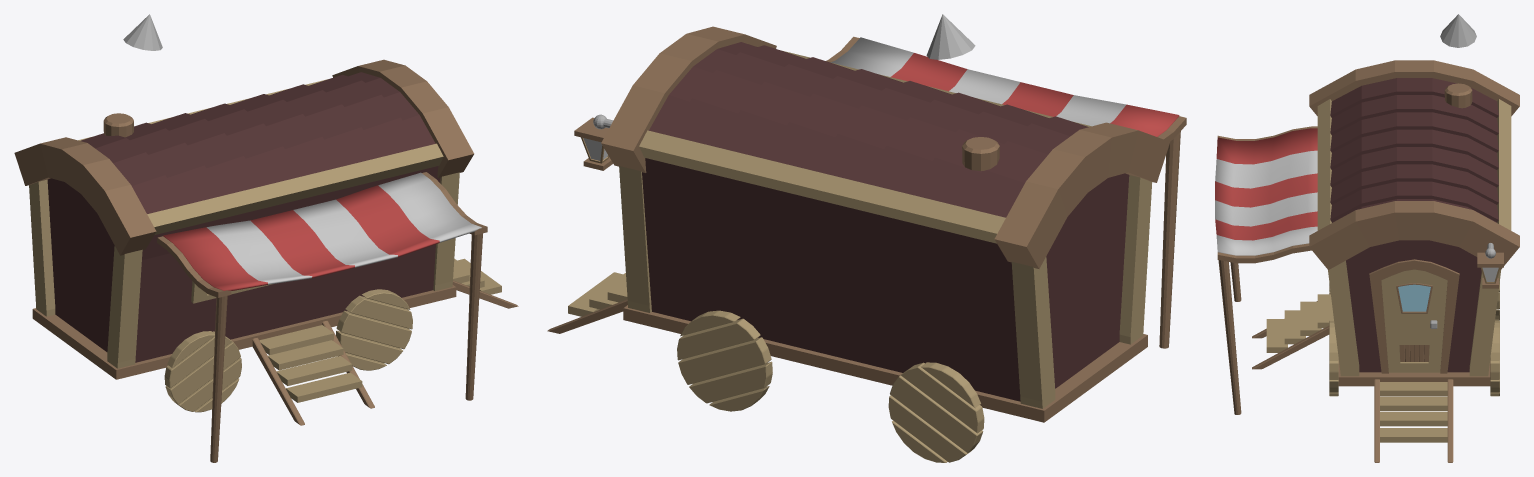
Rendered from CarFoodSonExport.fbx.
The picture shows the model from 3 angles, left to right: view 1: azimuth 30°, elevation 25°; view 2: azimuth 150°, elevation 25°; view 3: azimuth 270°, elevation 25°; orthographic projection. The views are drawn at different scales.
Visible parts, largest first — view 1: Circle.019; view 2: Circle.019; view 3: Circle.019.
Part boxes in pixels (left/top/right/bottom): Circle.019: left=14, top=14, right=518, bottom=462; Circle.019: left=547, top=14, right=1186, bottom=462; Circle.019: left=1215, top=14, right=1519, bottom=462.
Size of the model in its own units: 2127 by 1649 by 1458.
